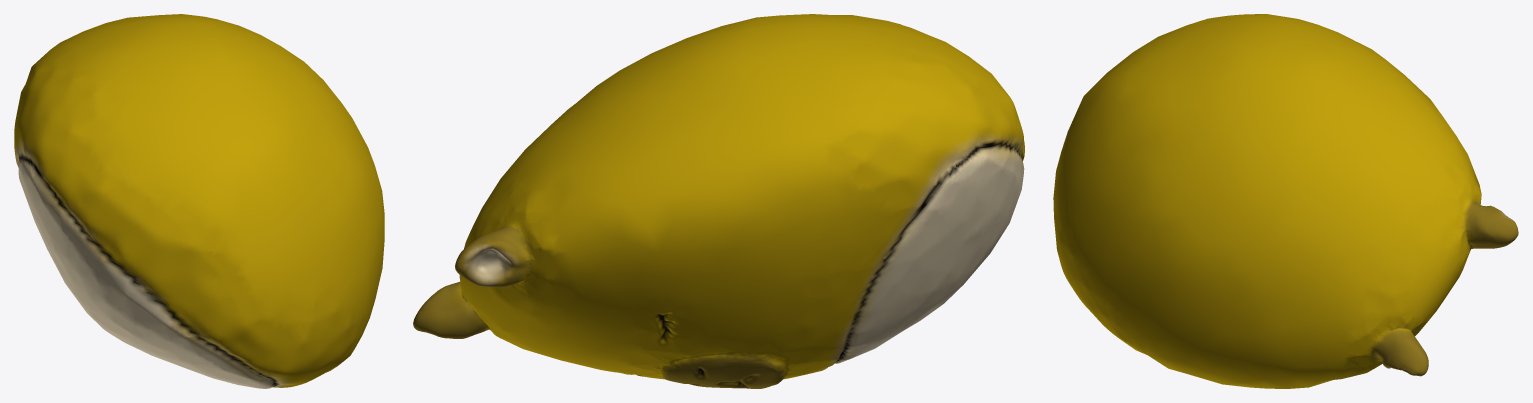
Rendered from 02-chippy.fbx.
3 views of the same model, side by side, from view 1: azimuth 30°, elevation 25°; view 2: azimuth 150°, elevation 25°; view 3: azimuth 270°, elevation 25° (orthographic). The views are drawn at different scales.
Visible parts, largest first — view 1: 球体_001.pm; view 2: 球体_001.pm; view 3: 球体_001.pm.
Part boxes in pixels (x1,y1,x2,y2): 球体_001.pm: (14,14,384,388); 球体_001.pm: (413,14,1024,388); 球体_001.pm: (1053,14,1518,388).
Size of the model in its own units: 177 by 133 by 197.
1 material, 1 textured.
